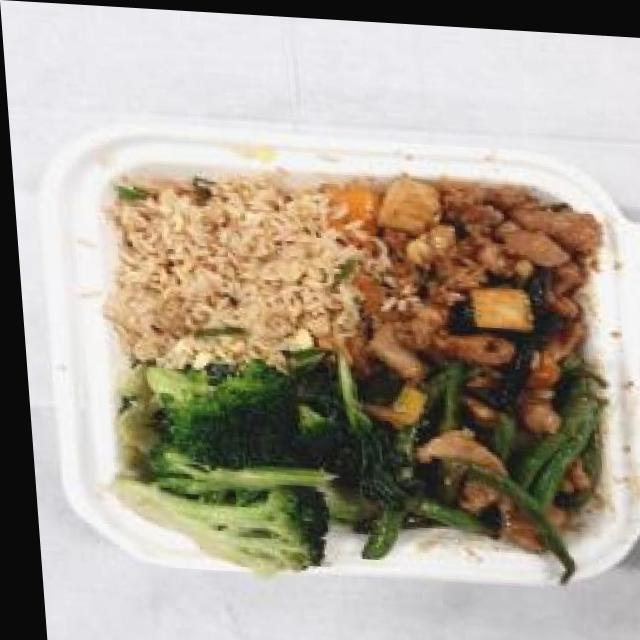Fried Rice: (79, 161, 340, 366)
Kung Pao Chicken: (323, 158, 610, 370)
String Bean Chicken Breast: (359, 341, 626, 556)
Super Greens: (103, 349, 398, 572)
